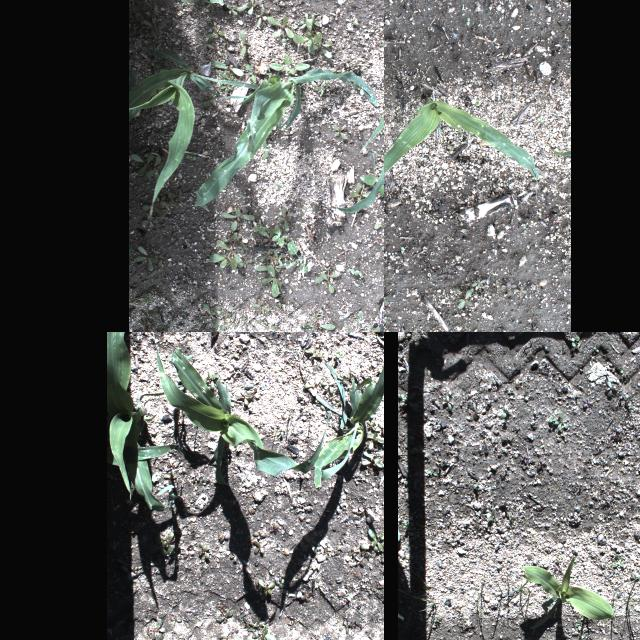crop: (194, 68, 378, 212), (153, 338, 329, 487), (128, 46, 264, 218), (384, 96, 539, 182), (107, 332, 179, 517), (312, 332, 384, 488), (336, 23, 384, 212), (521, 556, 617, 630), (552, 150, 570, 156)
weed: (208, 233, 248, 271), (399, 572, 435, 612), (612, 574, 640, 618), (292, 19, 322, 55), (268, 54, 312, 74), (148, 530, 178, 558), (220, 209, 254, 231), (285, 241, 307, 273), (359, 174, 384, 202), (314, 266, 338, 294), (145, 156, 167, 184), (268, 16, 294, 38), (134, 246, 156, 272), (305, 314, 336, 332), (351, 182, 372, 208), (262, 266, 280, 296), (312, 31, 332, 57), (131, 152, 153, 175), (146, 618, 168, 640), (212, 60, 242, 76), (360, 450, 384, 470), (202, 304, 220, 328), (212, 606, 236, 624), (472, 589, 484, 625), (203, 368, 219, 392), (368, 528, 384, 552), (548, 412, 568, 431), (302, 537, 318, 559), (236, 0, 260, 14), (276, 208, 290, 232), (218, 74, 236, 92), (258, 228, 276, 246), (303, 377, 321, 395), (366, 432, 384, 450), (253, 626, 276, 640), (142, 203, 164, 217), (272, 228, 288, 246), (260, 579, 274, 599), (306, 344, 322, 361), (457, 290, 473, 306), (248, 622, 264, 638), (240, 30, 250, 54), (197, 541, 210, 559), (234, 391, 250, 405), (252, 540, 268, 554), (244, 64, 256, 82), (140, 214, 158, 226), (149, 259, 161, 277), (205, 27, 225, 37), (502, 282, 516, 296), (610, 553, 624, 567), (272, 250, 284, 266), (322, 379, 334, 395), (339, 620, 355, 632), (331, 125, 345, 138), (486, 508, 499, 522), (256, 7, 266, 25), (359, 542, 377, 552), (252, 530, 270, 540), (384, 289, 394, 306), (213, 632, 233, 640), (229, 548, 239, 564), (606, 380, 616, 396), (374, 421, 384, 436), (258, 250, 270, 262), (348, 550, 360, 562), (319, 547, 331, 559), (398, 392, 407, 408), (254, 302, 268, 312), (512, 286, 526, 296), (320, 406, 334, 416), (299, 591, 313, 601), (276, 578, 286, 592), (168, 615, 182, 625), (242, 618, 255, 628), (500, 404, 508, 420), (570, 336, 580, 348), (472, 279, 486, 287), (216, 534, 230, 542), (250, 387, 258, 401), (446, 396, 454, 410), (474, 404, 481, 420), (625, 393, 633, 407), (274, 0, 284, 11), (270, 525, 280, 535), (226, 6, 238, 14), (333, 348, 341, 360), (327, 397, 339, 405), (426, 469, 438, 477), (380, 546, 384, 569), (368, 422, 377, 432), (339, 328, 361, 332), (396, 114, 404, 125), (576, 618, 582, 632), (186, 152, 196, 160), (276, 427, 284, 437), (356, 509, 366, 517), (128, 566, 138, 574), (506, 513, 516, 521), (344, 496, 356, 502), (377, 332, 384, 342), (250, 226, 266, 230), (620, 370, 628, 378), (535, 118, 545, 124), (290, 575, 300, 581), (398, 613, 404, 621), (592, 347, 600, 353), (474, 98, 480, 105), (278, 637, 292, 640), (466, 16, 470, 26), (384, 313, 388, 322), (433, 616, 439, 622), (580, 636, 586, 640), (398, 529, 400, 541), (398, 515, 400, 525)
